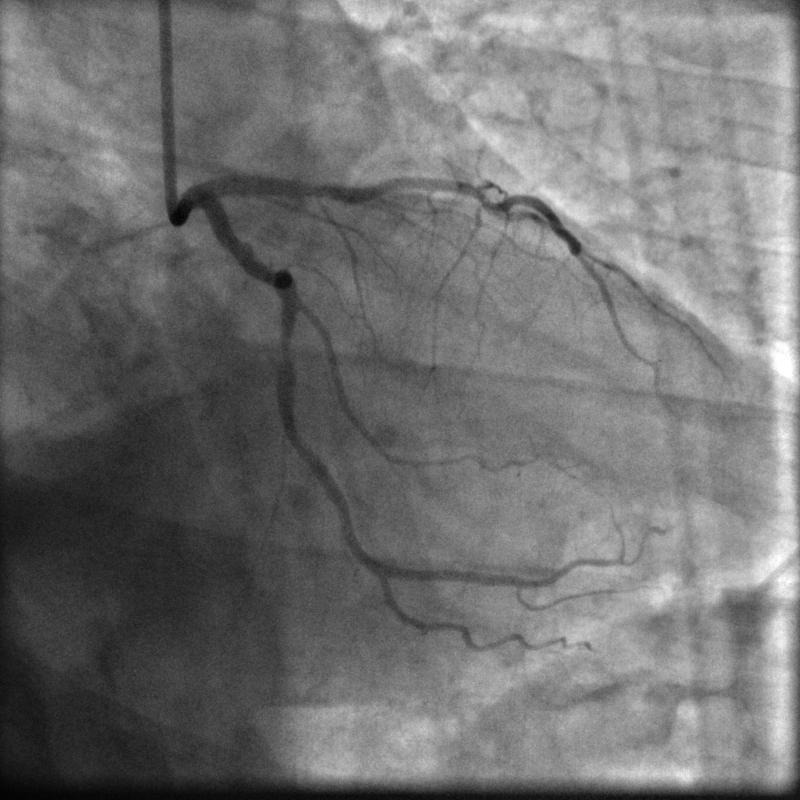Stenosis: (276, 340, 296, 366)
